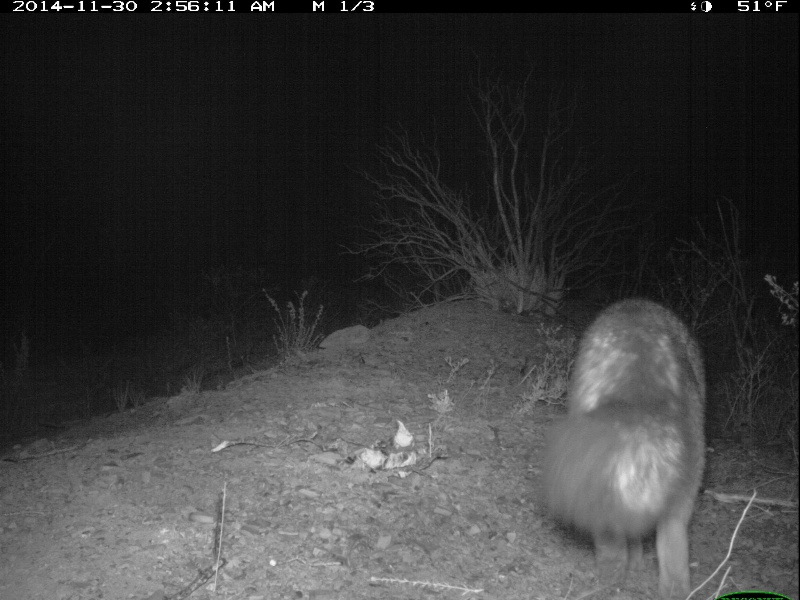coyote: (547, 296, 712, 594)
